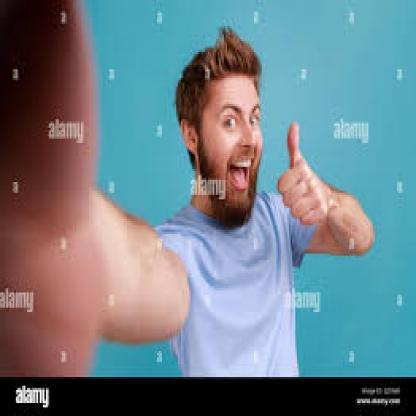thumb_up: (274, 118, 330, 228)
